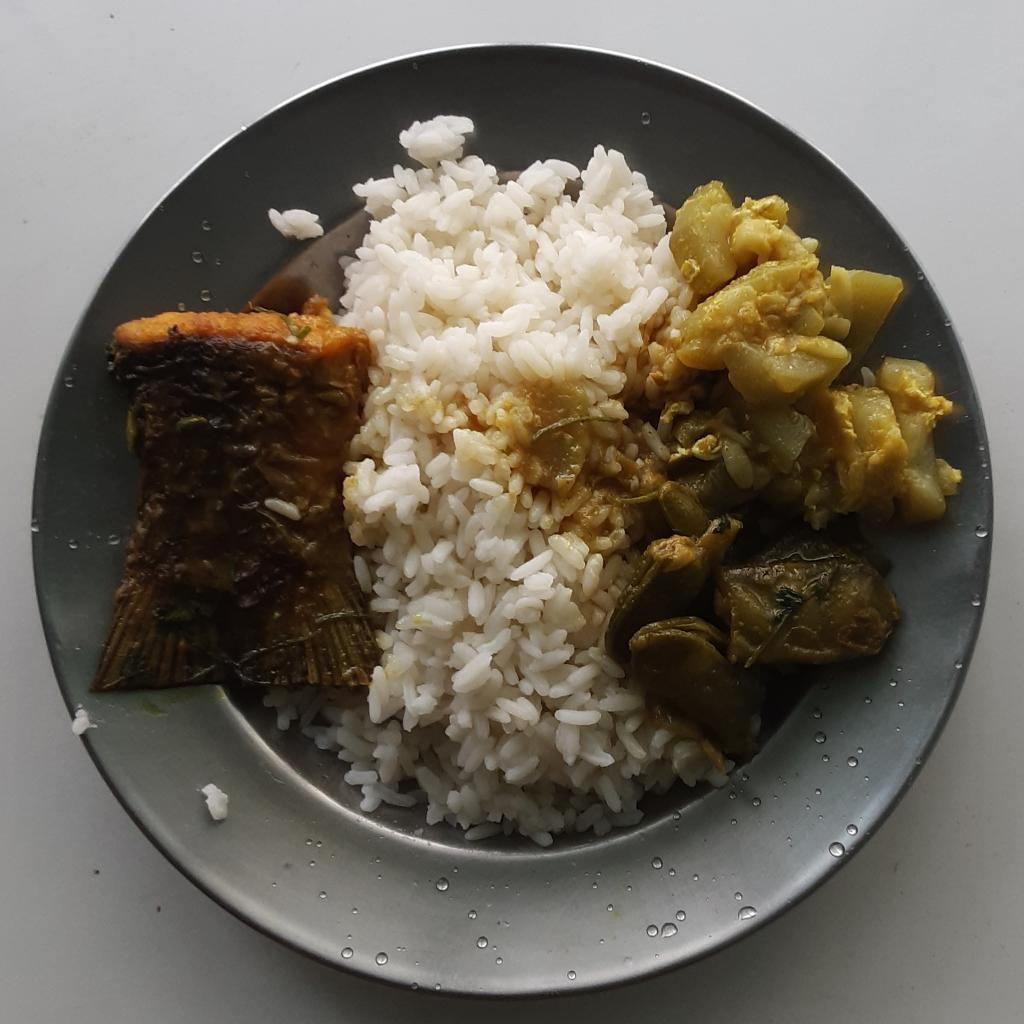fish: (91, 306, 379, 689)
lau: (645, 178, 962, 537)
rice: (261, 108, 735, 852)
shim: (612, 475, 895, 763)
